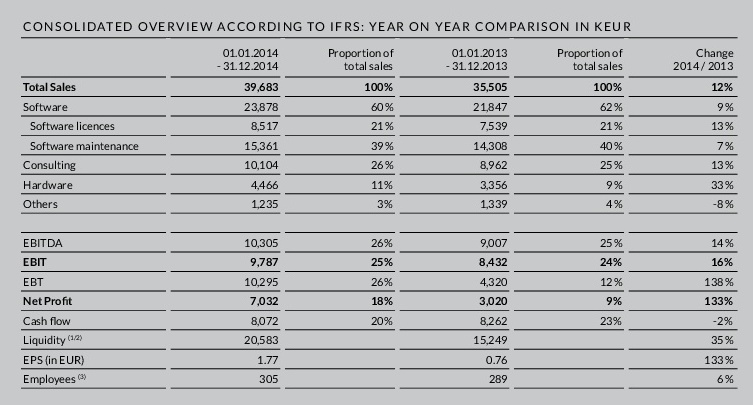table: (0, 0, 753, 405)
